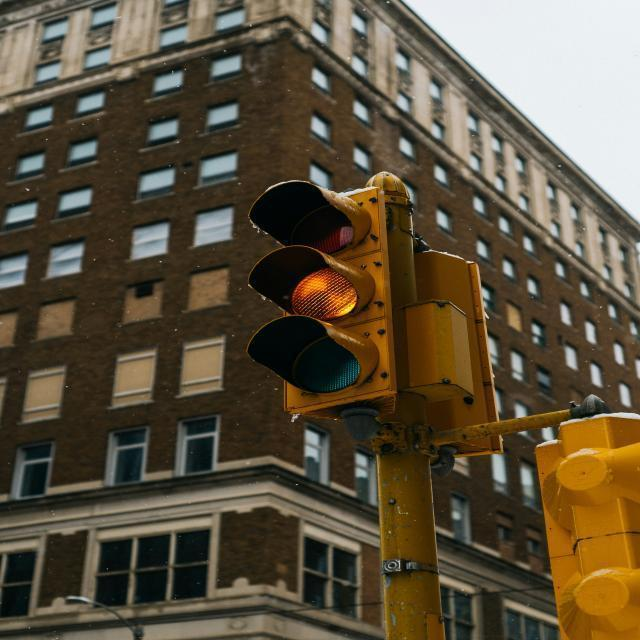yellow_light: (247, 173, 429, 418)
